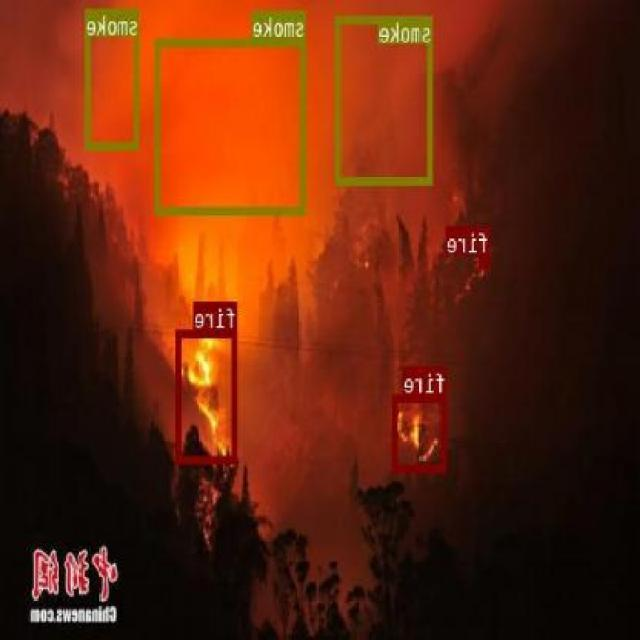Fire: (178, 328, 238, 463), (393, 394, 447, 472), (481, 253, 492, 267)
Smoke: (157, 36, 308, 212), (337, 15, 434, 184), (87, 8, 141, 148)
